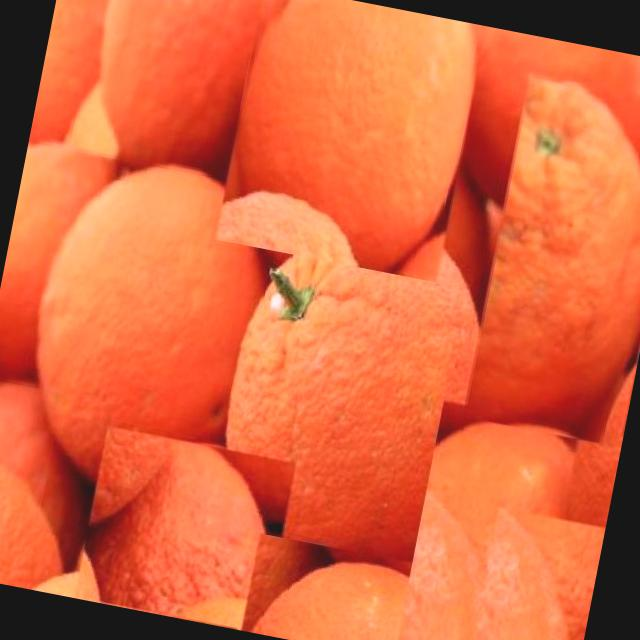Orange: (192, 178, 518, 586), (8, 135, 296, 510), (216, 0, 486, 281), (463, 73, 640, 448), (74, 426, 296, 634), (80, 0, 267, 180), (0, 135, 119, 398), (251, 544, 411, 640), (0, 441, 85, 595)
